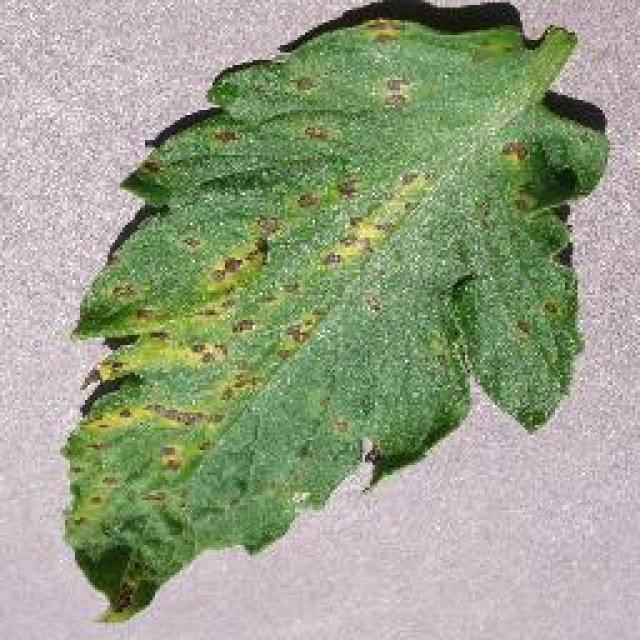Tomato___Septoria_leaf_spot: (65, 20, 608, 618)
